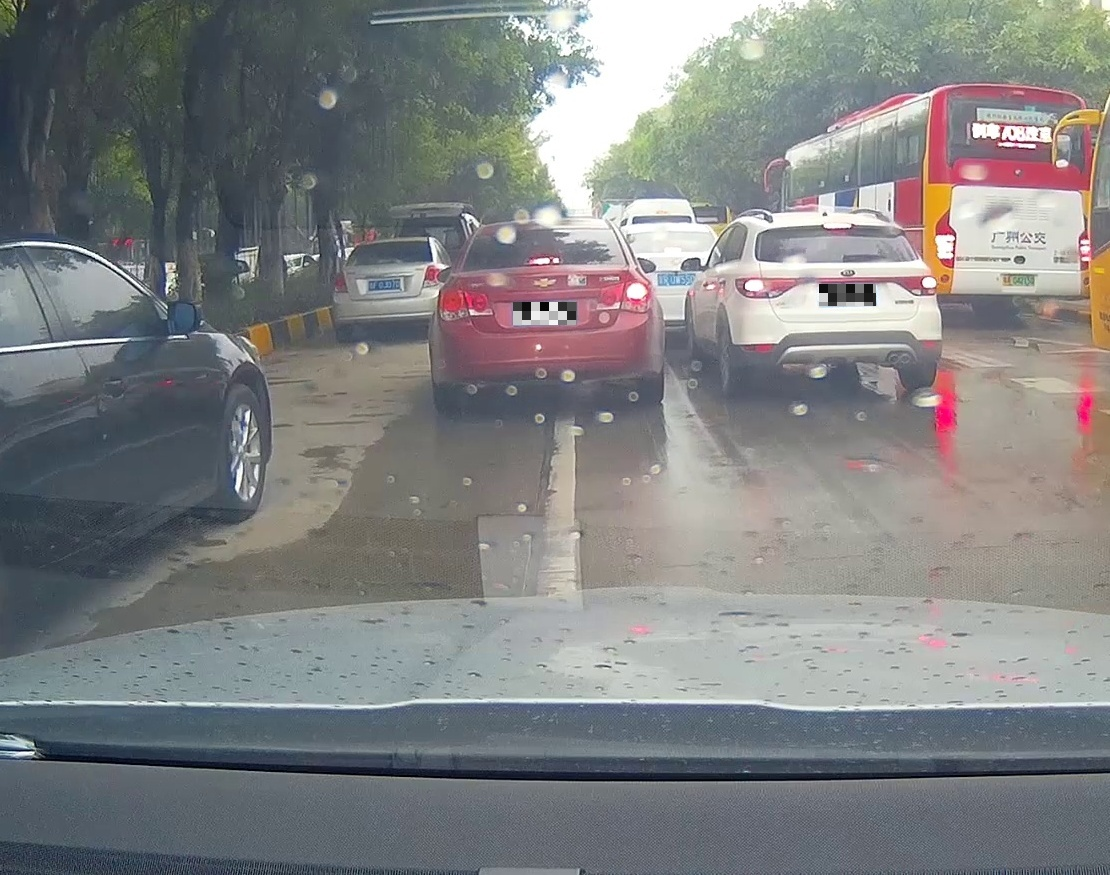L_light: (437, 289, 493, 322), (735, 276, 804, 299)
R_light: (596, 279, 654, 313), (894, 275, 938, 296)
T_light: (525, 256, 561, 267), (822, 223, 852, 230)
day-brake: (731, 212, 942, 393)
day-right: (427, 219, 666, 405)
plate_1: (513, 302, 577, 325)
plate_2: (819, 284, 876, 306)
